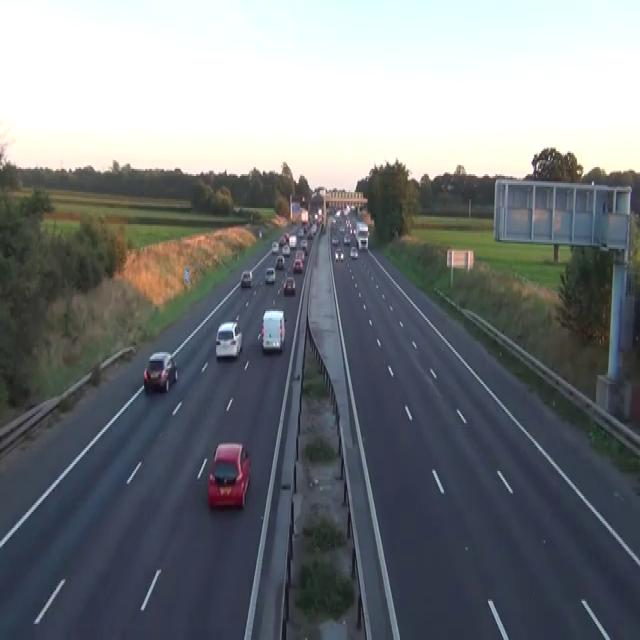Car: (207, 441, 250, 510), (330, 203, 370, 261), (143, 350, 178, 393), (215, 320, 242, 359), (282, 276, 295, 295), (240, 270, 252, 286), (264, 266, 275, 282), (292, 258, 303, 272), (357, 236, 368, 249), (334, 247, 344, 261), (275, 254, 284, 268), (289, 235, 297, 249), (279, 233, 288, 245), (350, 245, 358, 258), (282, 244, 290, 256), (300, 238, 307, 251), (296, 249, 305, 259), (271, 240, 278, 252), (331, 235, 339, 245), (343, 233, 350, 243), (446, 182, 454, 190), (297, 228, 304, 236), (283, 233, 289, 242), (258, 230, 262, 238)
Truck: (261, 309, 285, 352), (355, 220, 369, 249)
